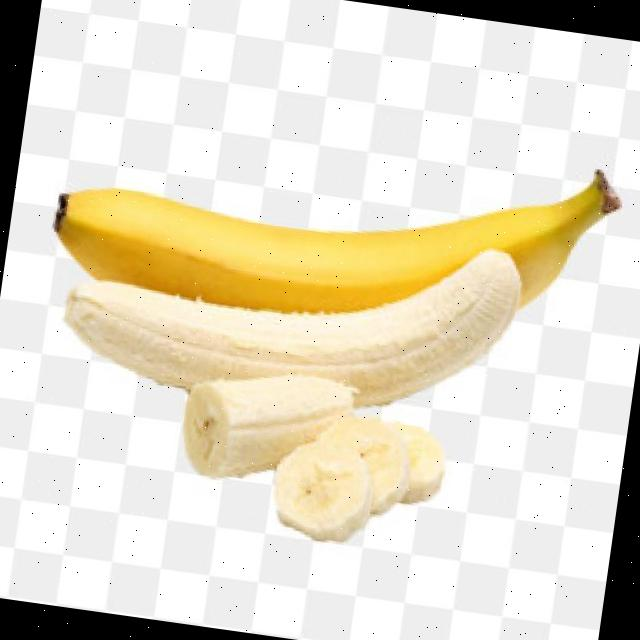banana-peel: (44, 93, 627, 358), (54, 190, 526, 433)
